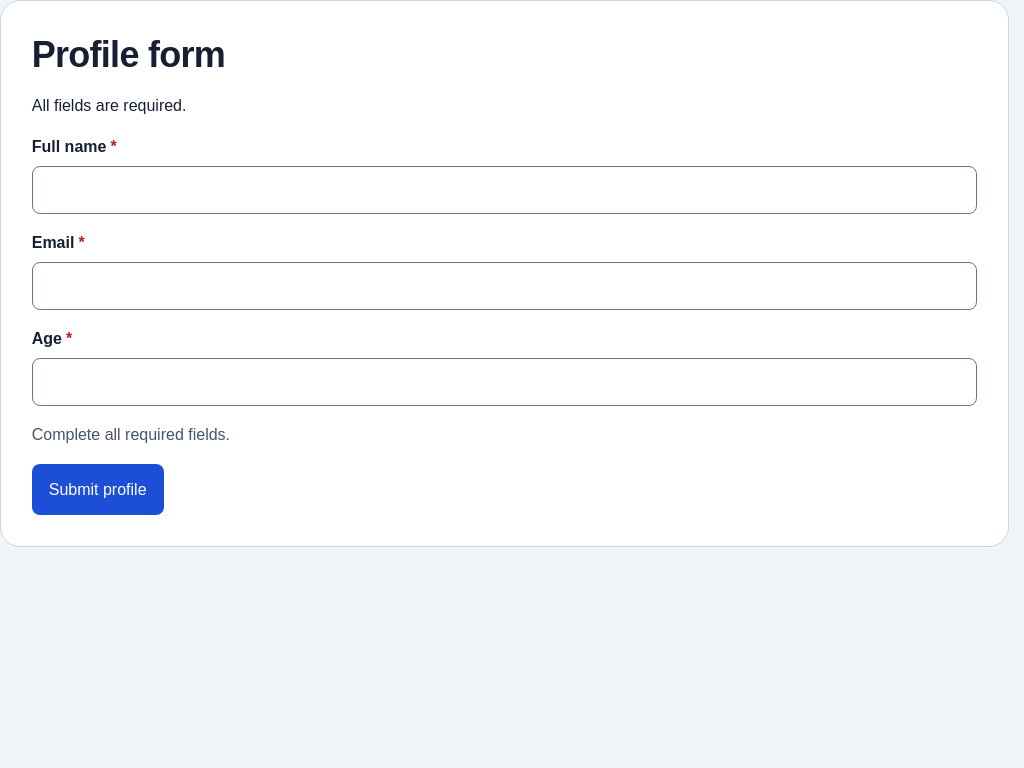
Test: Valid submit and ShowData › shows normalized data while retaining raw editable input
Type "  Đặng   Hoài An  " into the field labelled "Full name".
click(504, 190); type("  Đặng   Hoài An  ")  # box [32,166,977,214]
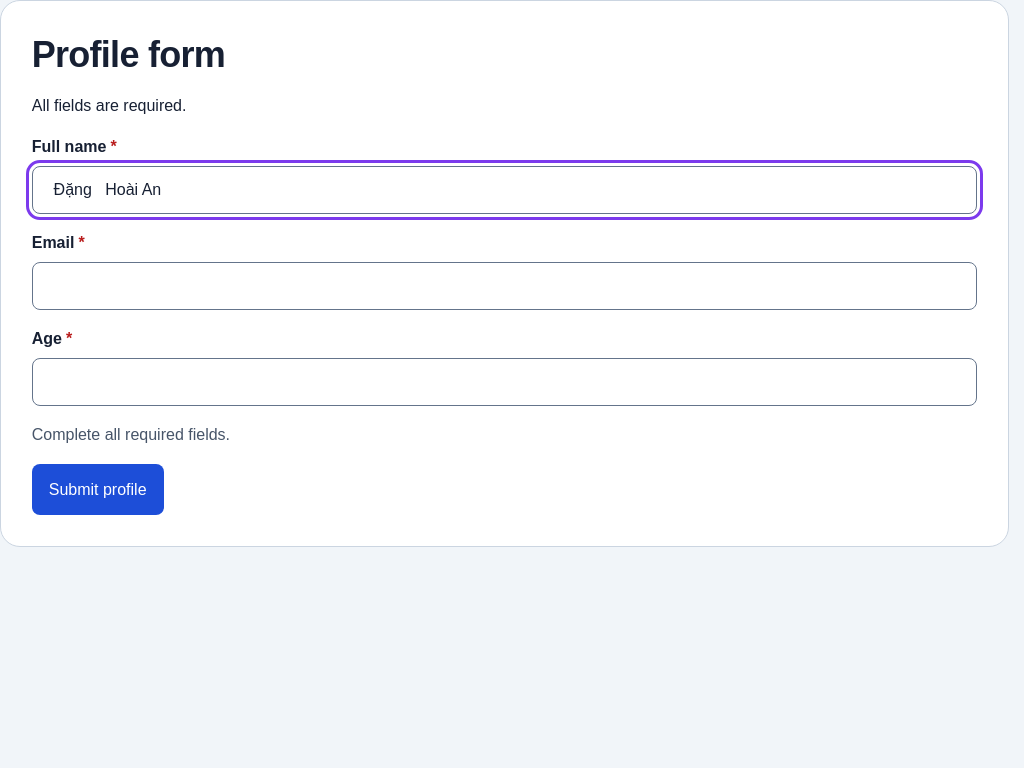
Type "an@example.com" into the field labelled "Email".
click(504, 286); type("an@example.com")  # box [32,262,977,310]
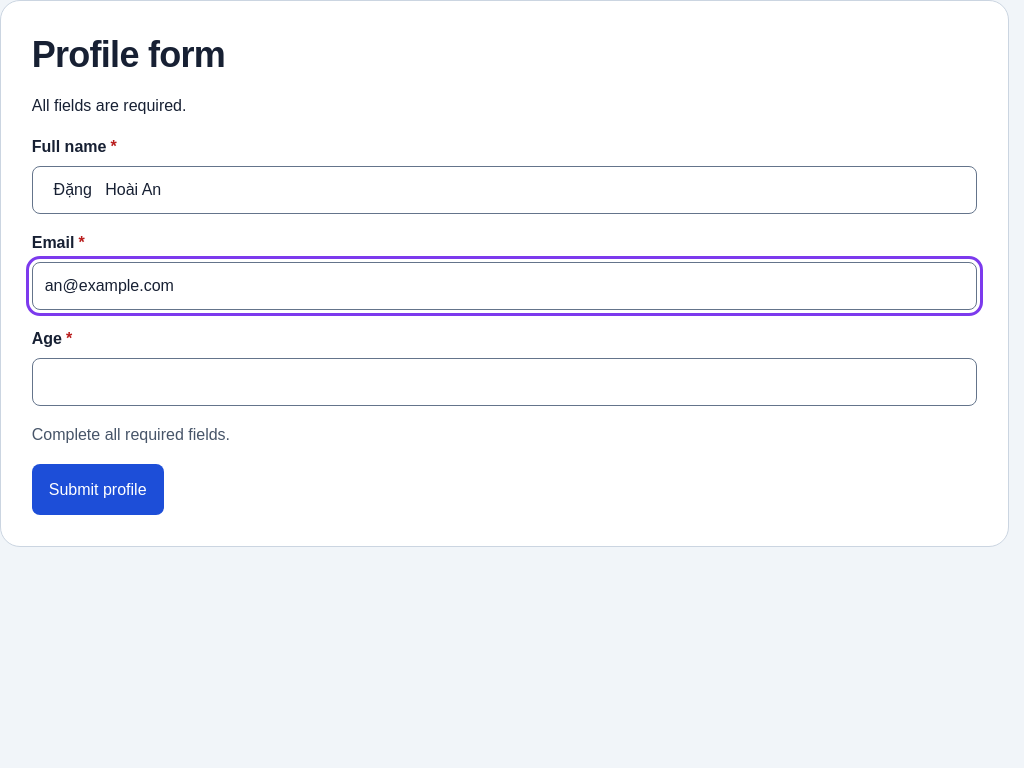
Type "021" into the field labelled "Age".
click(504, 382); type("021")  # box [32,358,977,406]
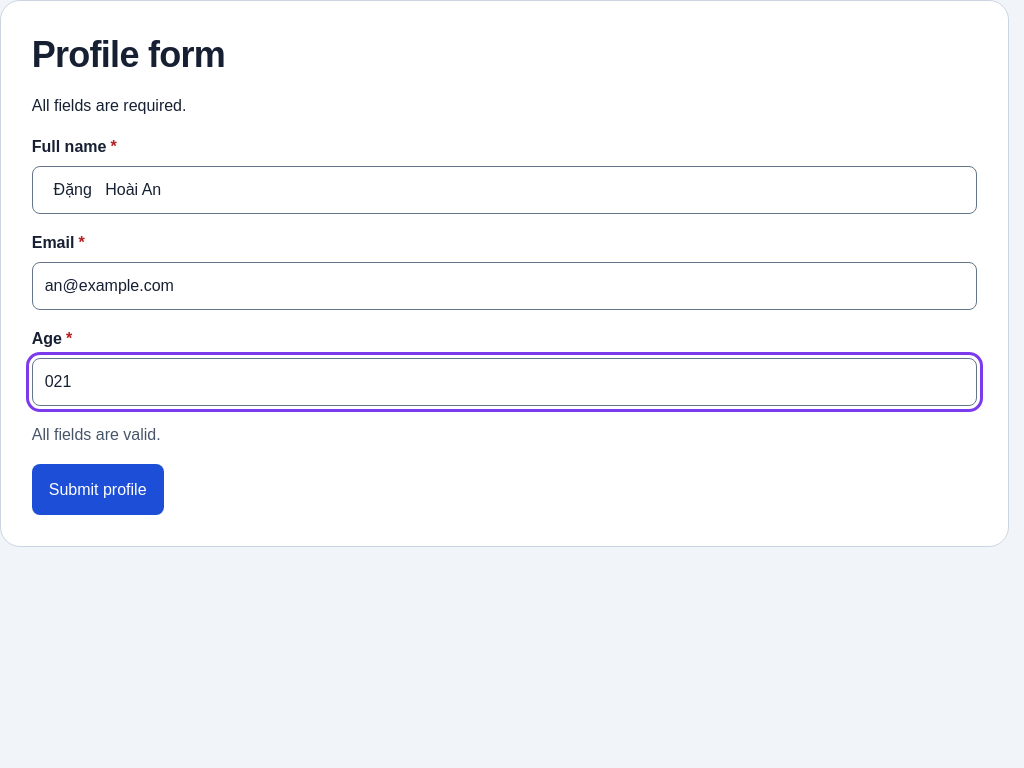
Click the button "Submit profile".
click(98, 490)  # box [32,464,164,515]
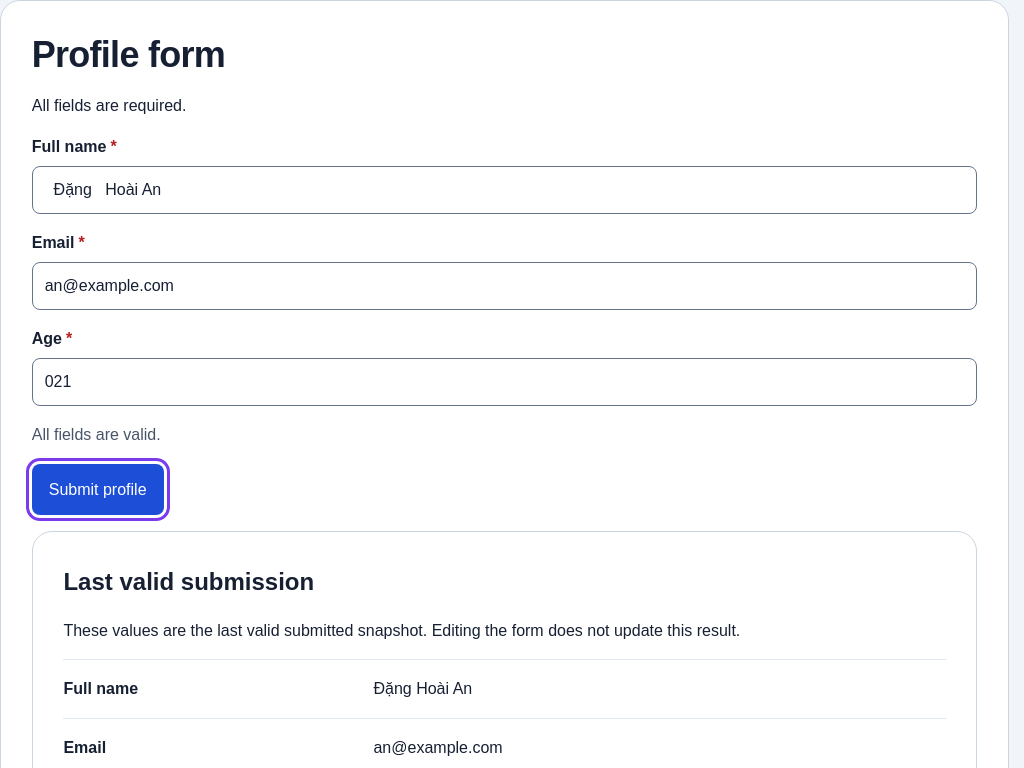
Expected: the text "Full name" is shown, [63,680,138,697]
Expected: the text "Đặng Hoài An" is shown, [374,680,472,697]
Expected: the text "Email" is shown, [63,739,106,756]
